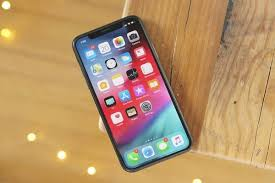iphone10: (70, 10, 195, 176)
